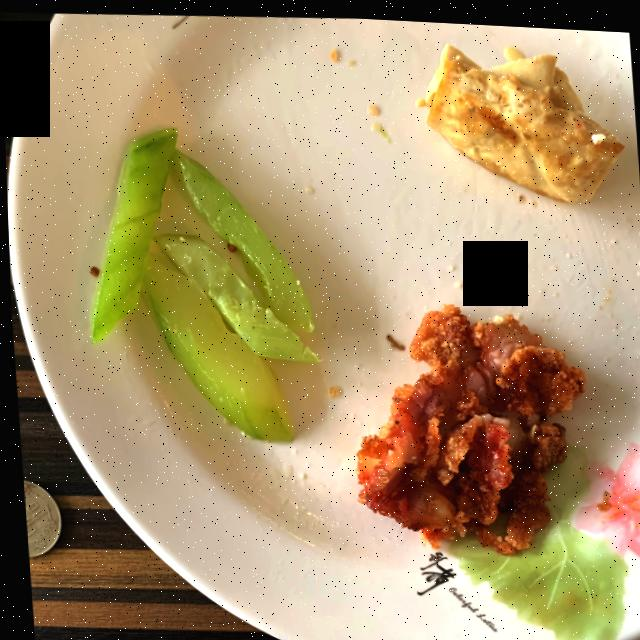coin: (19, 480, 57, 556)
red grilled pork: (352, 299, 582, 549)
